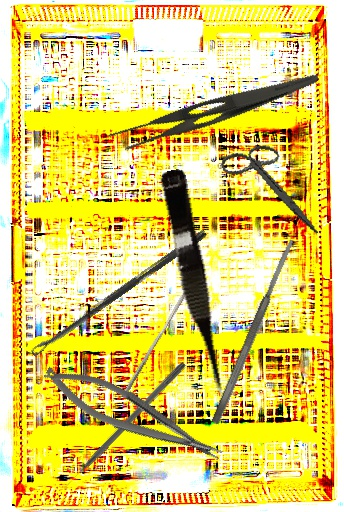Dressing Forceps: (105, 50, 321, 165)
Iris Scissors: (210, 136, 335, 235)
Micro Scissor: (153, 167, 233, 402)
Needle Holder: (37, 352, 228, 479)
Pusher: (60, 360, 187, 491), (121, 278, 195, 400)
Spatula Surgical: (209, 237, 298, 426)
Surgical Spoon: (29, 228, 208, 357)
